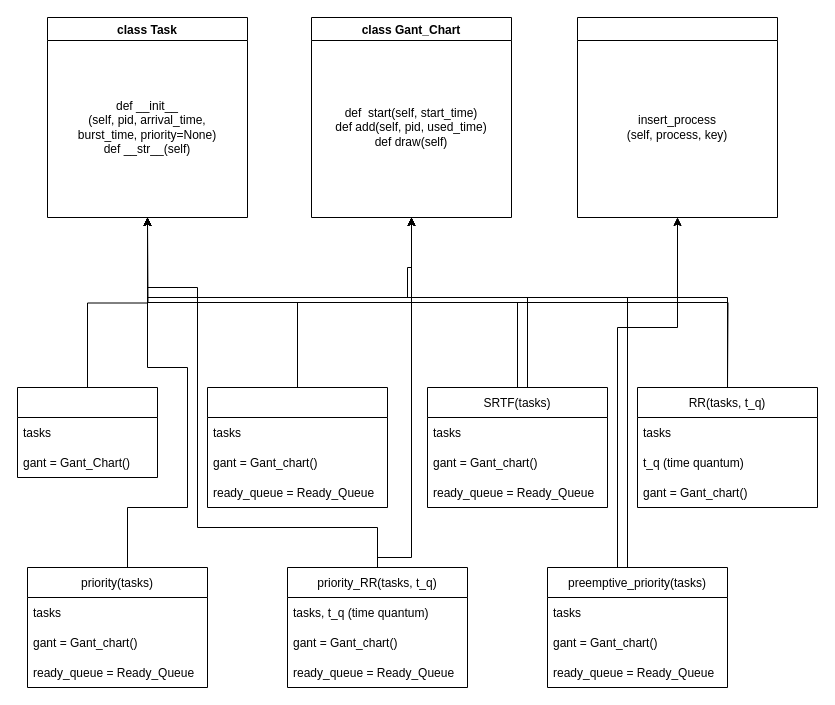
Image size: 835x705. Some labels were removed from this diagram. The box of each missing label's shape, as (x1, y1, x2, y2) in pixels:
class Ready_queue: (576, 16, 778, 218)
FCFS(tasks): (16, 386, 158, 478)
SJF(tasks): (206, 386, 388, 508)
